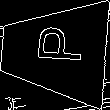P_W: (25, 31, 82, 72)
